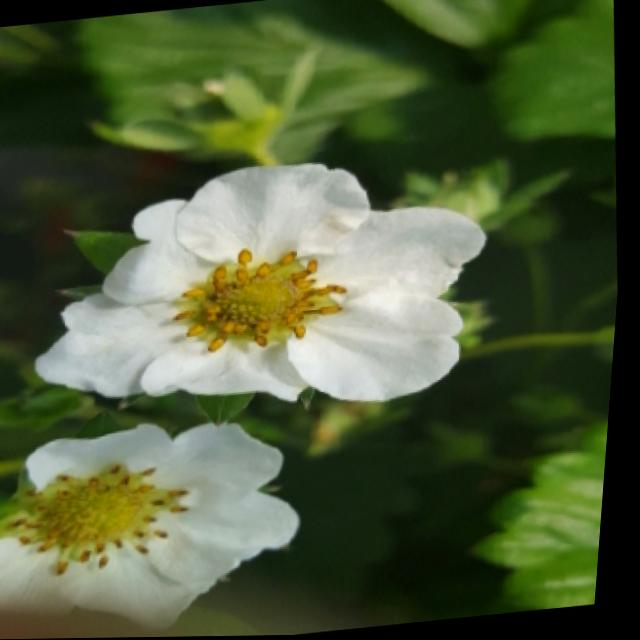Blossom Blight: (7, 455, 201, 581)
